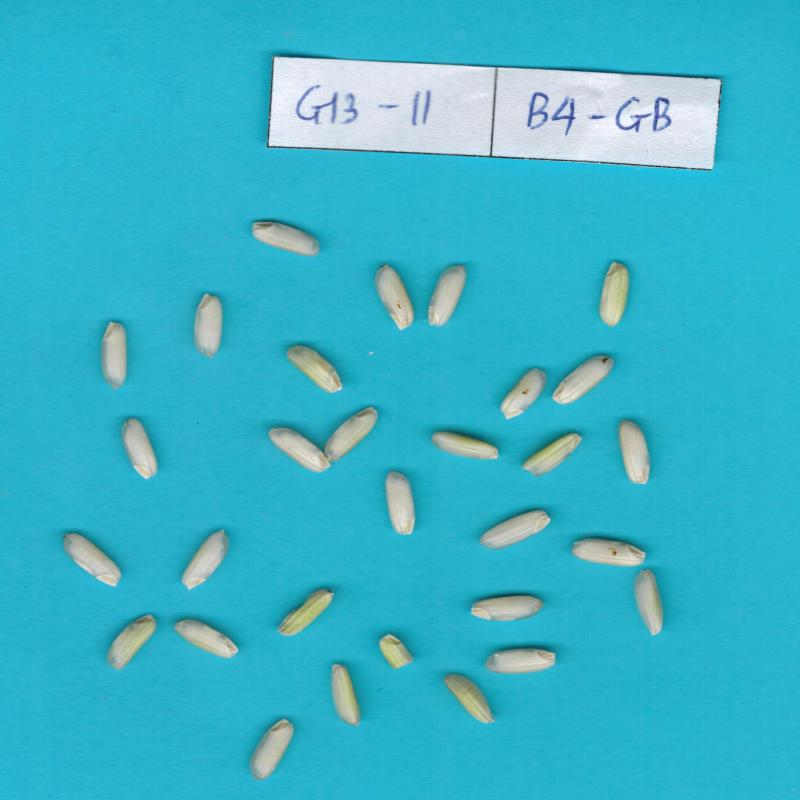Break: (522, 433, 582, 477), (379, 634, 414, 670)
Inferior: (277, 589, 334, 636)
Rice: (64, 534, 122, 586), (552, 356, 613, 404), (181, 530, 229, 589), (324, 408, 377, 461), (268, 427, 330, 472), (481, 510, 550, 550), (107, 614, 157, 669), (250, 719, 294, 779), (287, 346, 342, 393), (375, 265, 414, 330), (174, 619, 239, 658), (444, 674, 495, 723), (252, 221, 320, 256), (501, 368, 546, 419), (428, 265, 465, 325), (122, 418, 158, 479), (570, 539, 646, 566), (634, 570, 663, 636), (431, 432, 498, 460), (471, 595, 543, 621), (194, 293, 223, 357), (600, 262, 629, 326), (620, 420, 649, 484), (331, 664, 360, 726), (386, 471, 414, 535), (485, 649, 557, 673), (102, 322, 127, 389)
